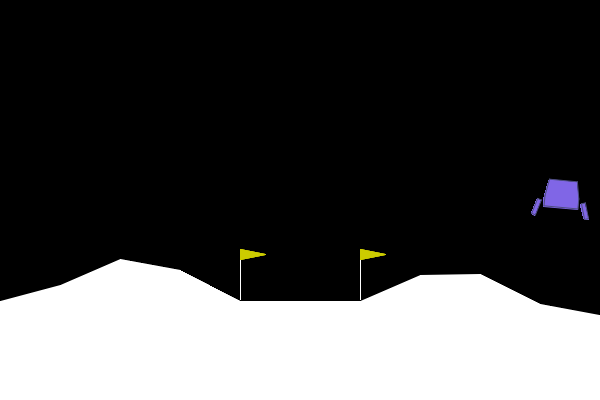lander: (530, 176, 593, 221)
